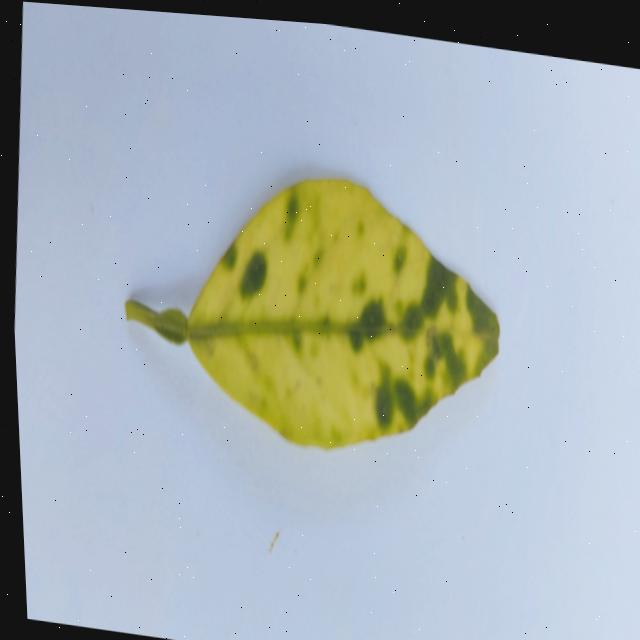greening: (125, 179, 498, 448)
